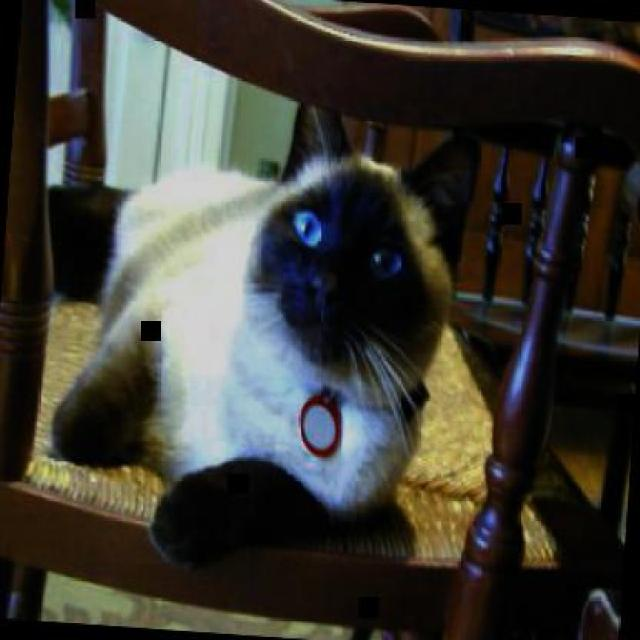cat: (44, 85, 484, 587)
